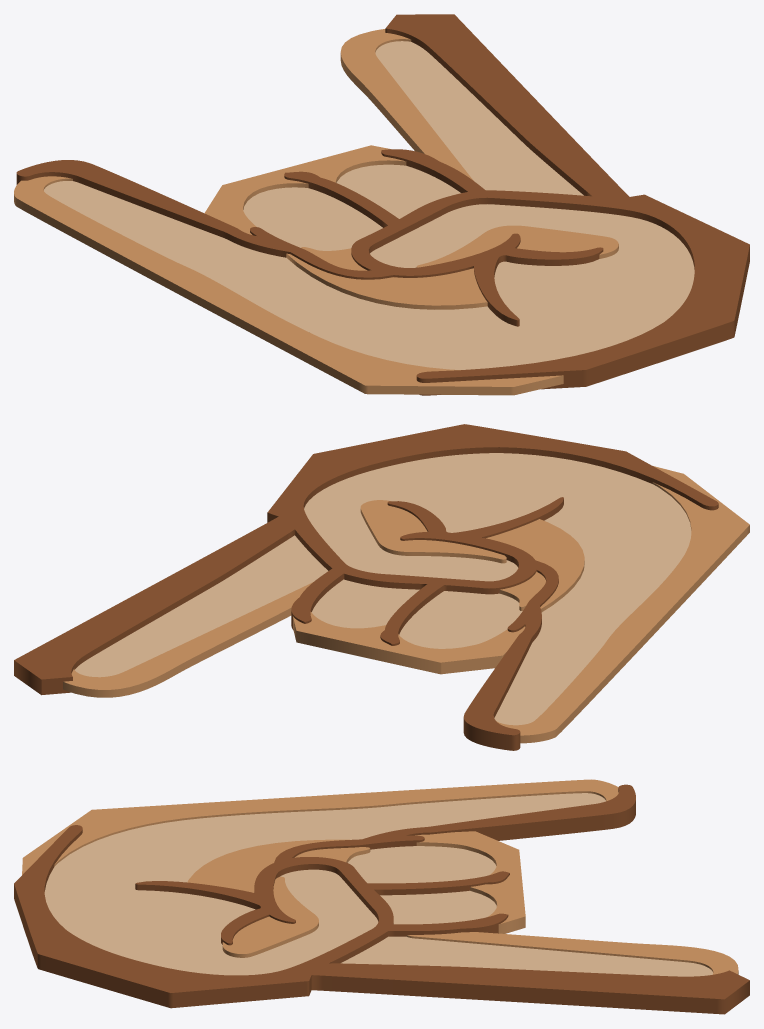
The model's file is emoji_u1f918_1f3fc.glb.
3 views of the same model, one above another, from view 1: azimuth 30°, elevation 25°; view 2: azimuth 150°, elevation 25°; view 3: azimuth 270°, elevation 25° (orthographic). The views are drawn at different scales.
Visible parts, largest first — view 1: emoji_u1f918_1f3fc; view 2: emoji_u1f918_1f3fc; view 3: emoji_u1f918_1f3fc.
Boxes of the visible parts, x1,y1,x2,y2 form: emoji_u1f918_1f3fc: (14,14,749,395); emoji_u1f918_1f3fc: (14,424,749,750); emoji_u1f918_1f3fc: (14,779,749,1014).
Size of the model in its own units: 0.0254 by 0.0008 by 0.0353.
